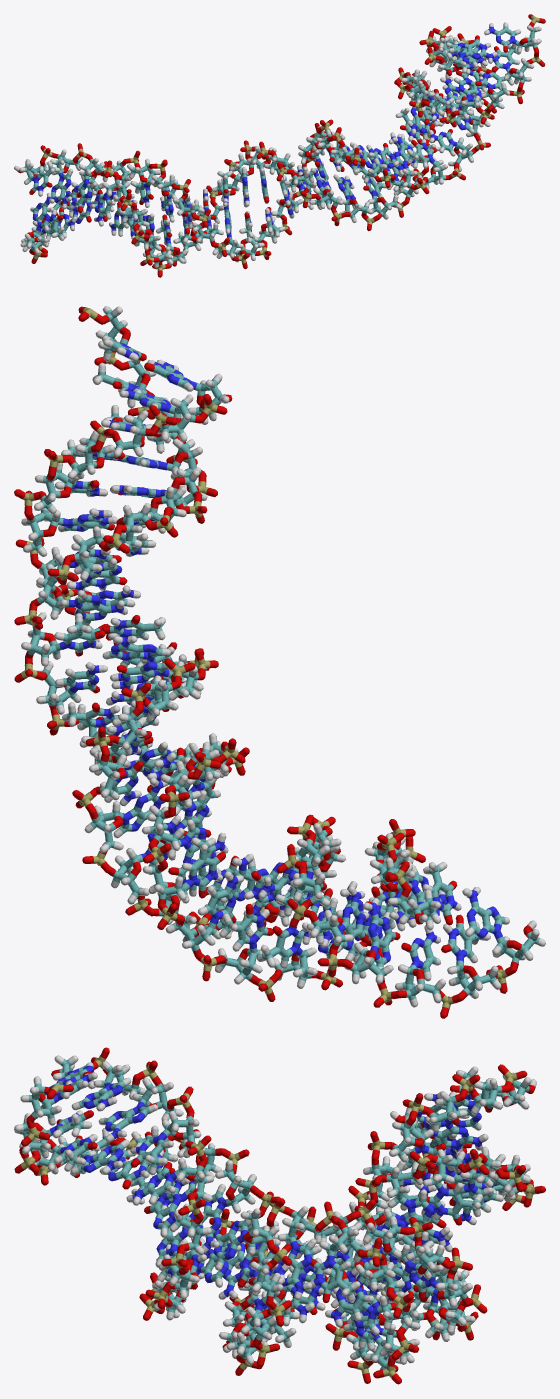
Rendered from dna-v1.glb.
3 views of the same model, one above another, from view 1: azimuth 30°, elevation 25°; view 2: azimuth 150°, elevation 25°; view 3: azimuth 270°, elevation 25° (orthographic). The views are drawn at different scales.
Visible parts, largest first — view 1: Object_7, Object_5, Object_3, Object_4, Object_2, Object_6, Object_8; view 2: Object_7, Object_5, Object_3, Object_4, Object_2, Object_6, Object_8; view 3: Object_7, Object_5, Object_3, Object_4, Object_2, Object_6, Object_8.
Boxes of the visible parts, x1,y1,x2,y2 form: Object_7: (14, 22, 541, 268); Object_5: (25, 26, 538, 256); Object_3: (17, 14, 545, 277); Object_4: (24, 28, 513, 263); Object_2: (32, 26, 516, 243); Object_6: (33, 15, 540, 271); Object_8: (362, 69, 458, 219); Object_7: (21, 306, 545, 1007); Object_5: (26, 310, 539, 999); Object_3: (14, 306, 532, 1018); Object_4: (27, 340, 502, 987); Object_2: (59, 342, 502, 968); Object_6: (21, 307, 508, 1009); Object_8: (21, 486, 207, 777); Object_7: (14, 1055, 536, 1377); Object_5: (20, 1059, 524, 1369); Object_3: (14, 1047, 545, 1384); Object_4: (23, 1071, 529, 1358); Object_2: (46, 1065, 496, 1341); Object_6: (21, 1055, 536, 1378); Object_8: (100, 1125, 299, 1364).
Bounding box in the file's own units: 12.24 × 8.16 × 9.1.
